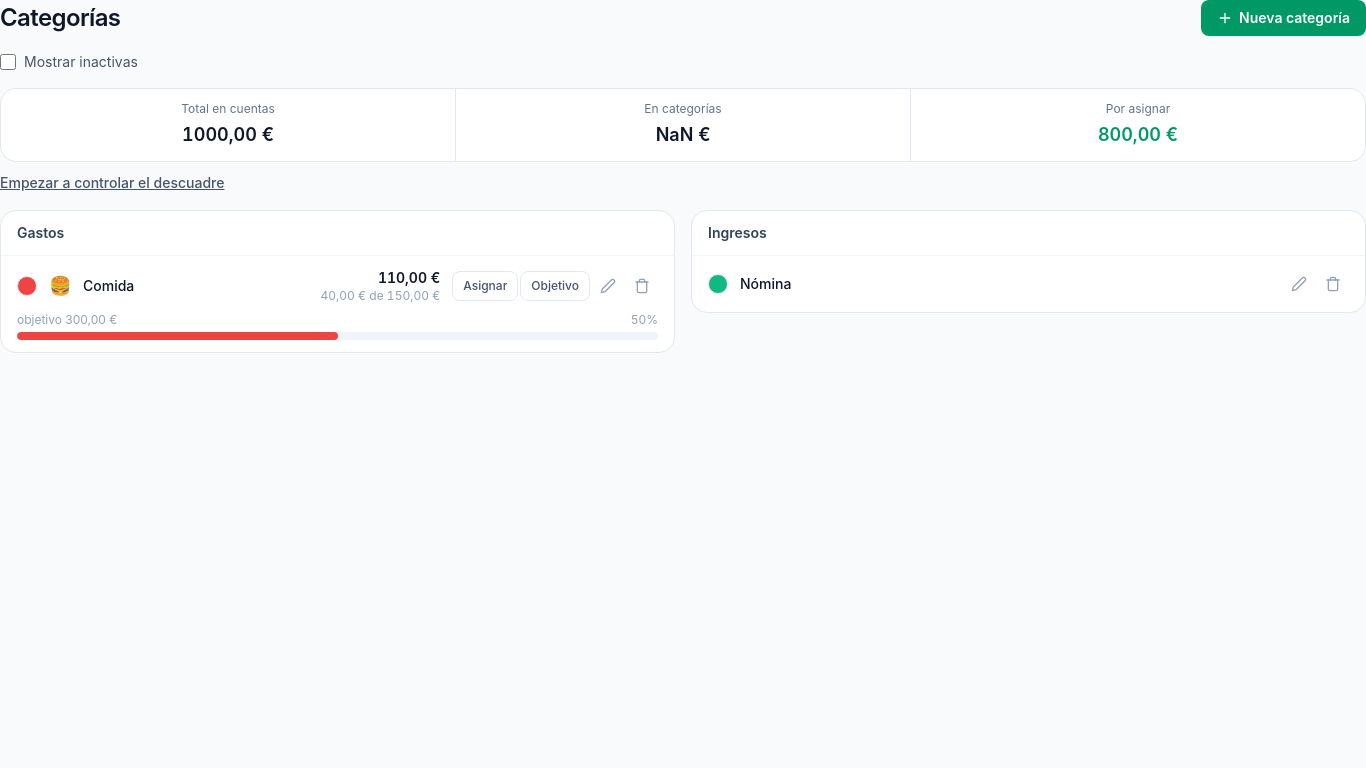
Scenario: CategoriesPage › does not report a failed delete when only the follow-up re-fetch fails
Expected: the text "Comida" is shown, [83,277,134,294]
Click the button named "Eliminar Comida": x=642, y=286 [626,270,658,302]
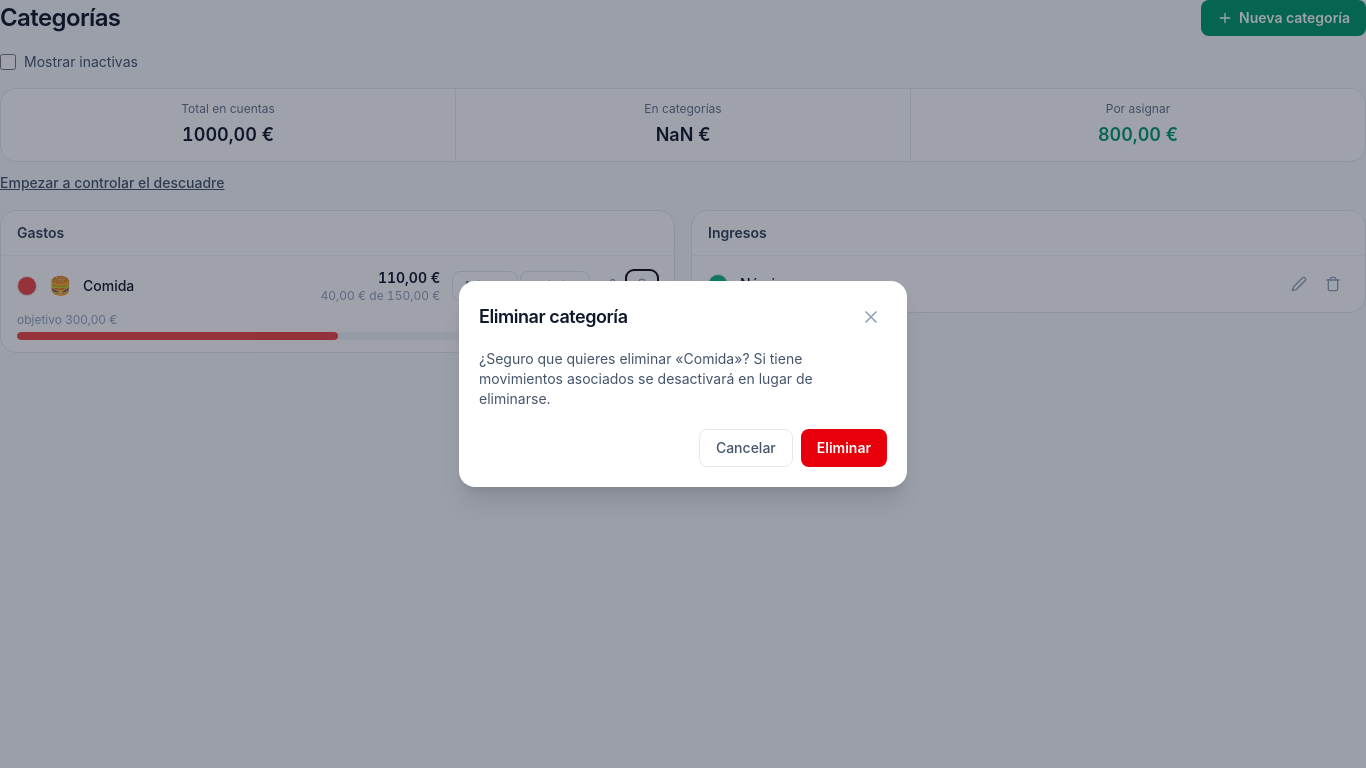
Click the button "Eliminar": x=844, y=448 [801,429,887,467]
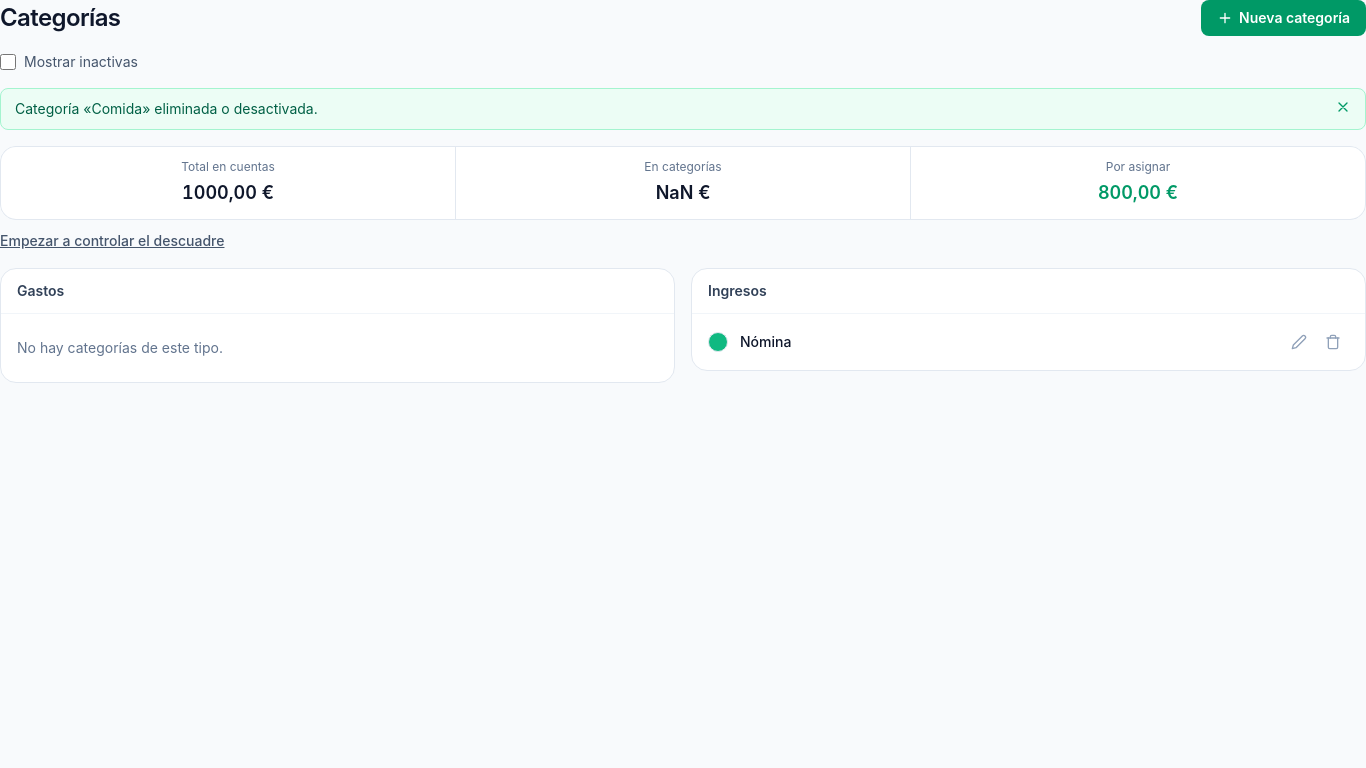
Expected: the message reads "Categoría «Comida» eliminada o desactivada.", [15,100,318,117]
